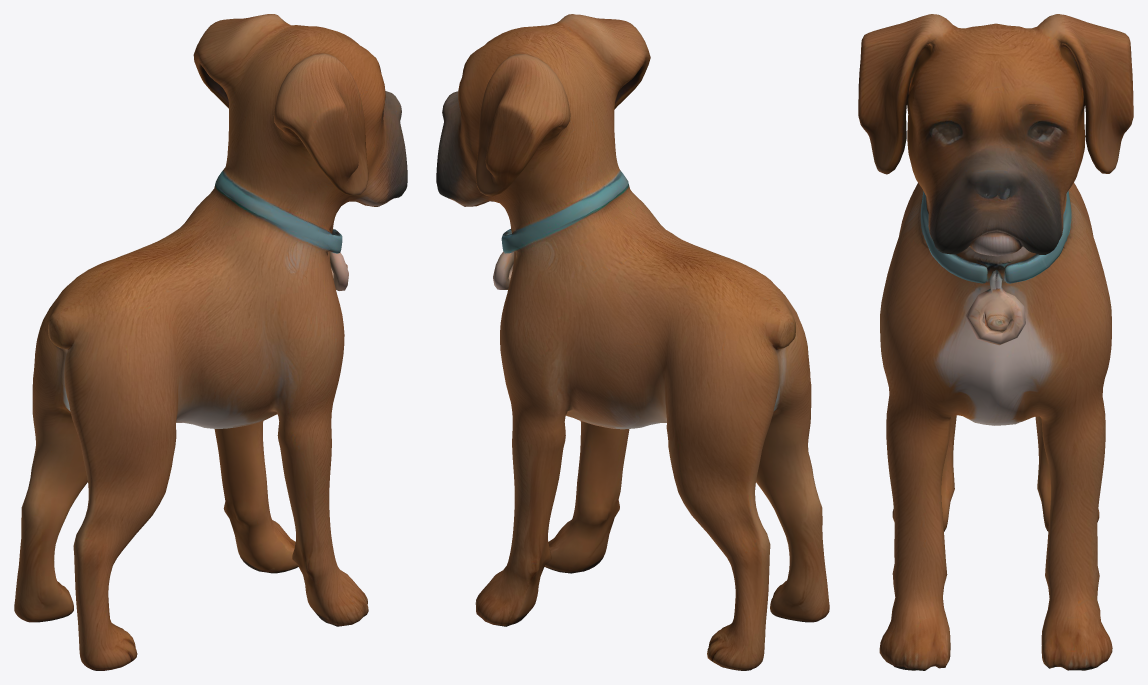
File: bentley_mv.fbx
3 views of the same model, side by side, from view 1: azimuth 30°, elevation 25°; view 2: azimuth 150°, elevation 25°; view 3: azimuth 270°, elevation 25° (orthographic). The views are drawn at different scales.
Parts seen in each view (by area): view 1: tripo_node_83150960; view 2: tripo_node_83150960; view 3: tripo_node_83150960.
Boxes of the visible parts, left/top/right/bottom form: tripo_node_83150960: left=14, top=14, right=407, bottom=670; tripo_node_83150960: left=436, top=14, right=829, bottom=670; tripo_node_83150960: left=858, top=14, right=1133, bottom=670.
Size of the model in its own units: 64.39 by 99.99 by 39.08.
Materials: 1 (1 with a texture image).
